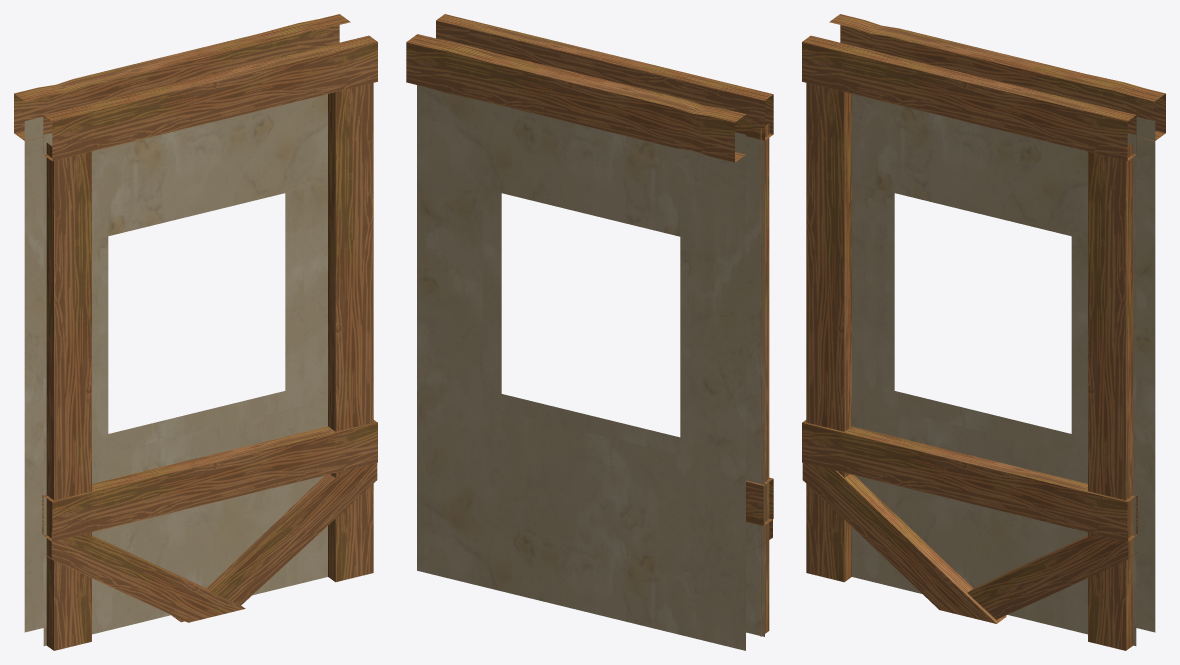
File: Wall_Plaster_Window_Wide_Flat2.gltf
3 renders of one model, left to right at view 1: azimuth 30°, elevation 25°; view 2: azimuth 150°, elevation 25°; view 3: azimuth 330°, elevation 25°, orthographic.
Parts seen in each view (by area): view 1: Wall_Plaster_Window_Wide_Flat2; view 2: Wall_Plaster_Window_Wide_Flat2; view 3: Wall_Plaster_Window_Wide_Flat2.
Part boxes in pixels (x1=…): Wall_Plaster_Window_Wide_Flat2: x1=14, y1=14, x2=377, y2=650; Wall_Plaster_Window_Wide_Flat2: x1=406, y1=14, x2=773, y2=650; Wall_Plaster_Window_Wide_Flat2: x1=802, y1=14, x2=1165, y2=650.
Bounding box in the file's own units: 2 × 3.15 × 0.4065.
Materials: 2 (2 with a texture image).
